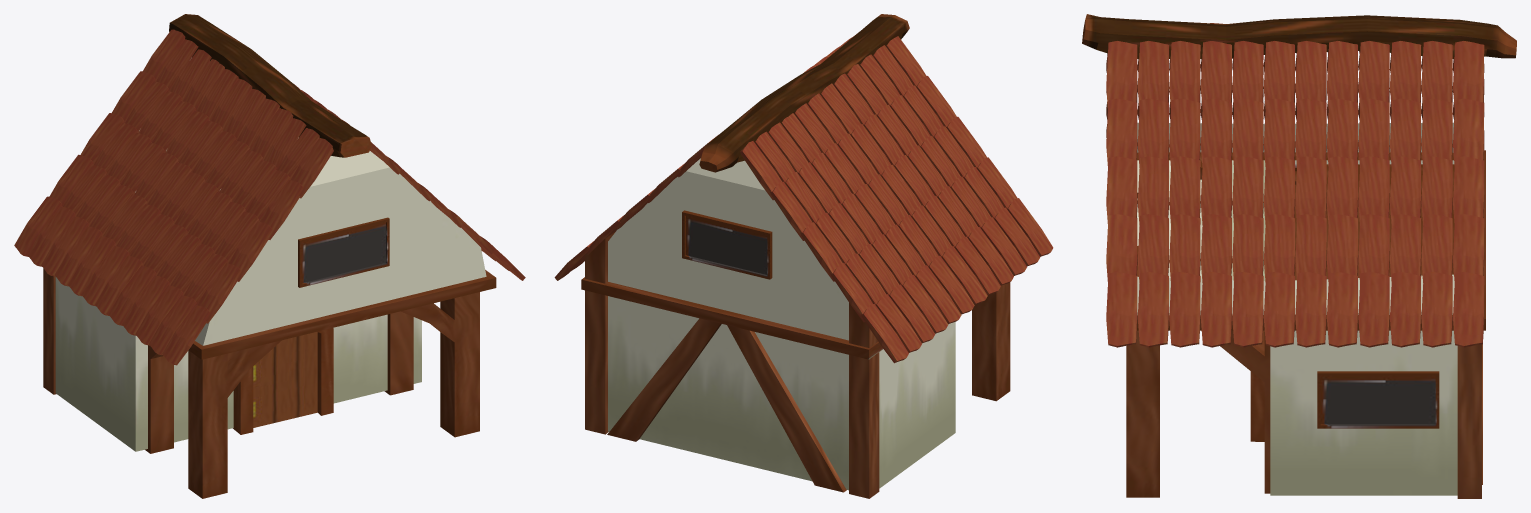
Rendered from House_Kambin1.fbx.
3 renders of one model, left to right at view 1: azimuth 30°, elevation 25°; view 2: azimuth 150°, elevation 25°; view 3: azimuth 270°, elevation 25°, orthographic. The views are drawn at different scales.
Visible parts, largest first — view 1: LOD_0; view 2: LOD_0; view 3: LOD_0.
Boxes of the visible parts, x1,y1,x2,y2 form: LOD_0: (14,14,525,498); LOD_0: (554,14,1053,498); LOD_0: (1082,14,1516,498).
Size of what is drawn, in the model's own units: 228 by 210 by 207.
